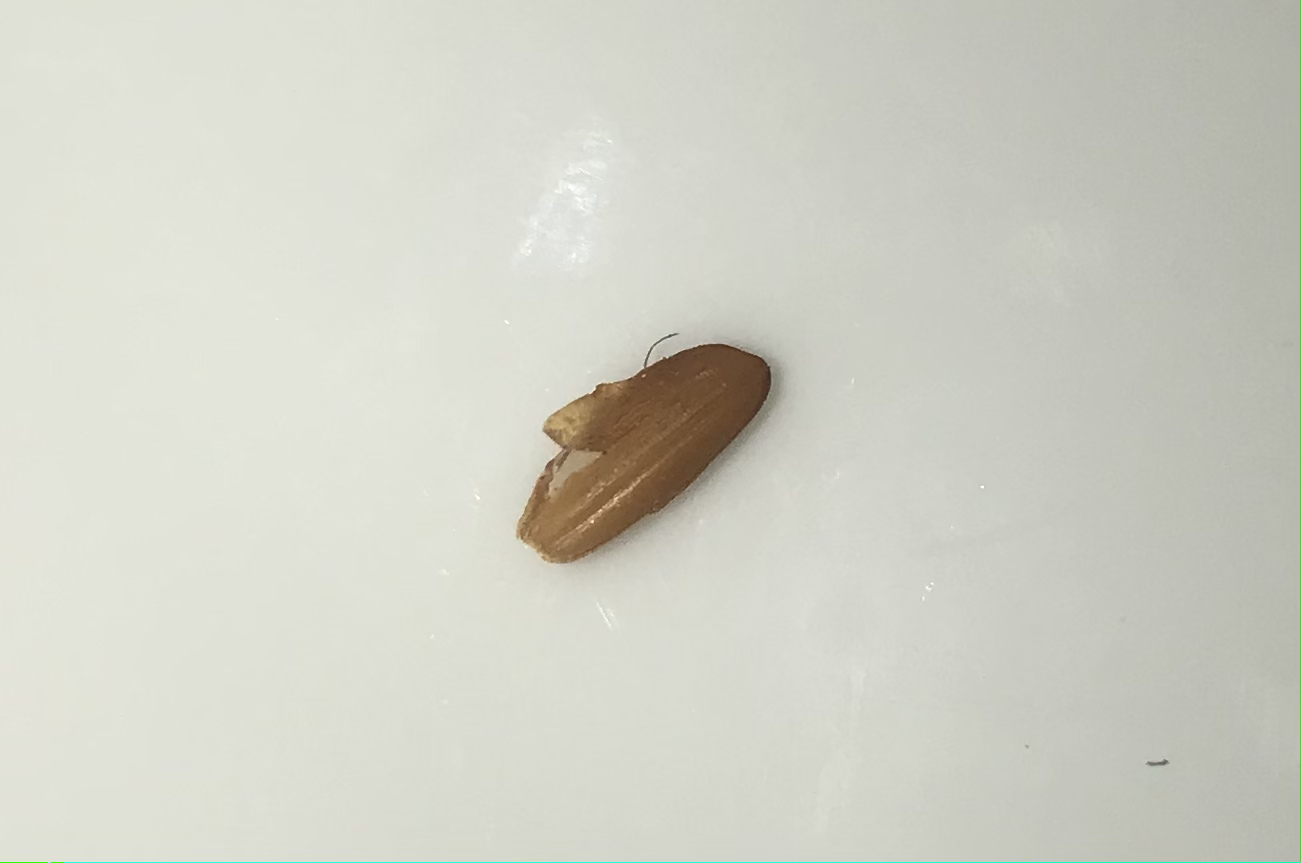Gao Lut Dien Bien: (499, 311, 786, 582)
